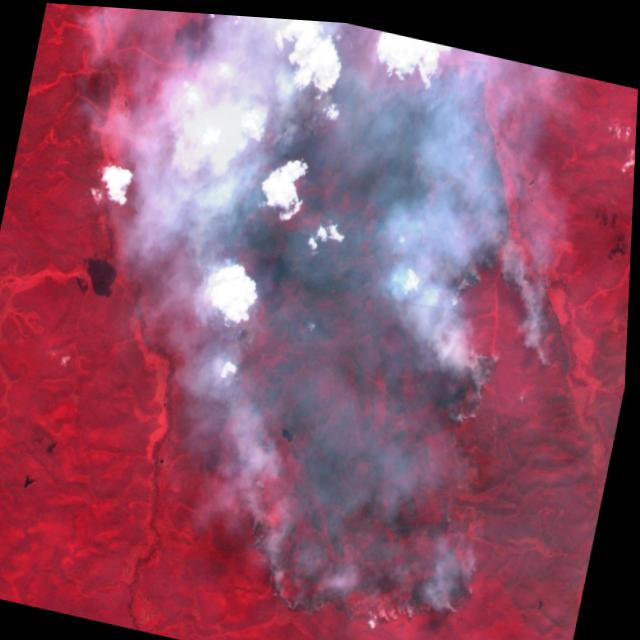fire: (97, 6, 620, 640)
